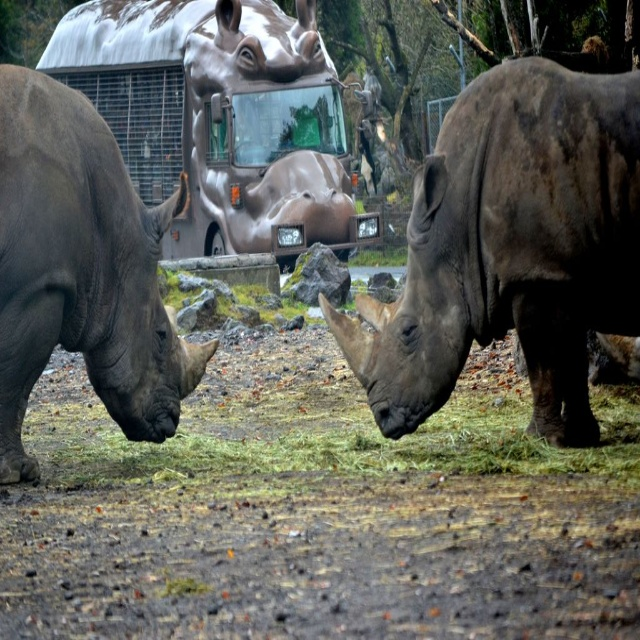Rhinoceros: (317, 57, 640, 453), (0, 60, 222, 490)
